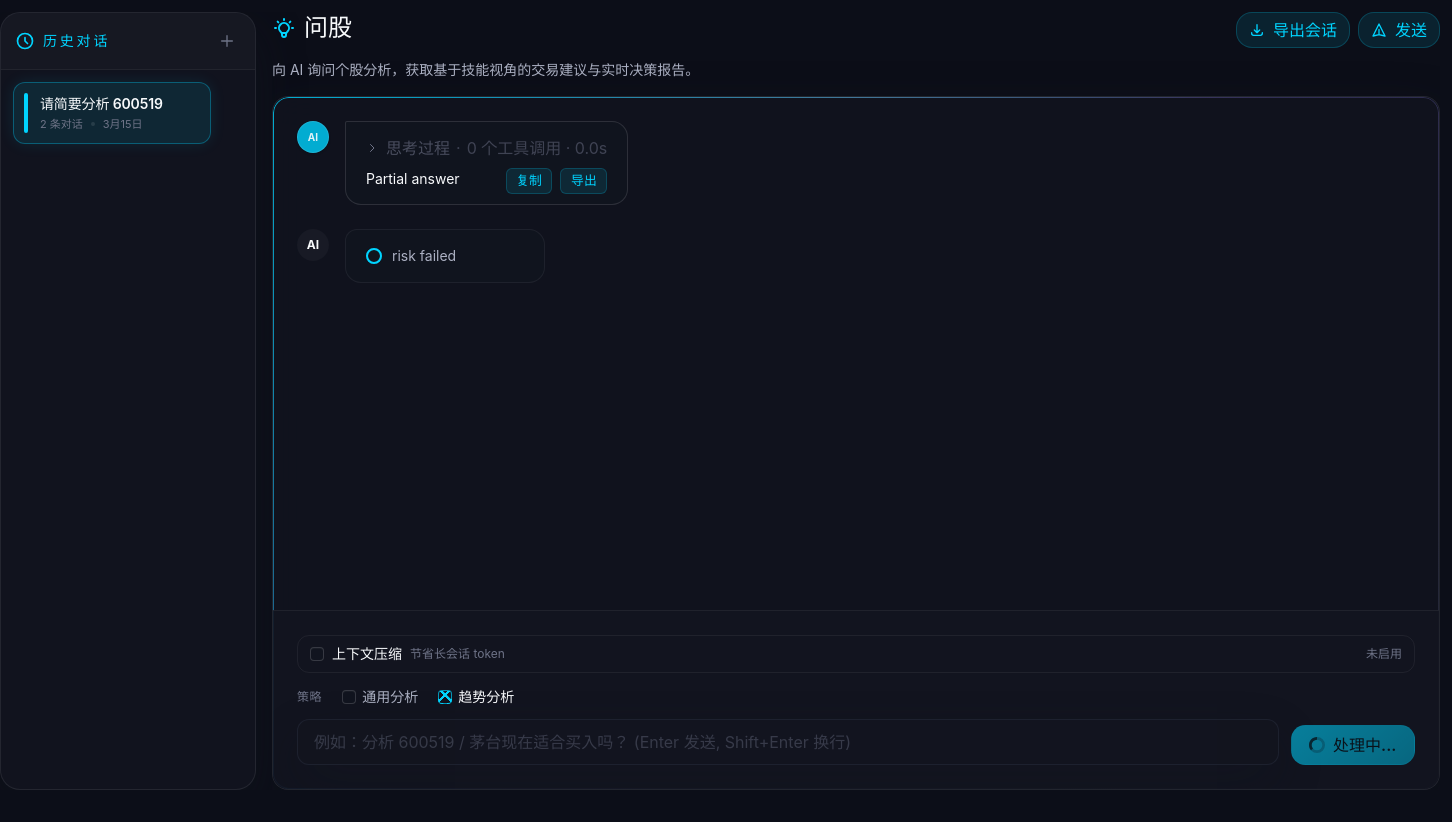
ChatPage › renders failed stage_done progress as a non-success state
Expected: the text "risk failed" is shown once, [392,246,456,266]
Click the button "思考过程 · 0 个工具调用 · 0.0s".
click(487, 148)  # box [366,136,607,160]
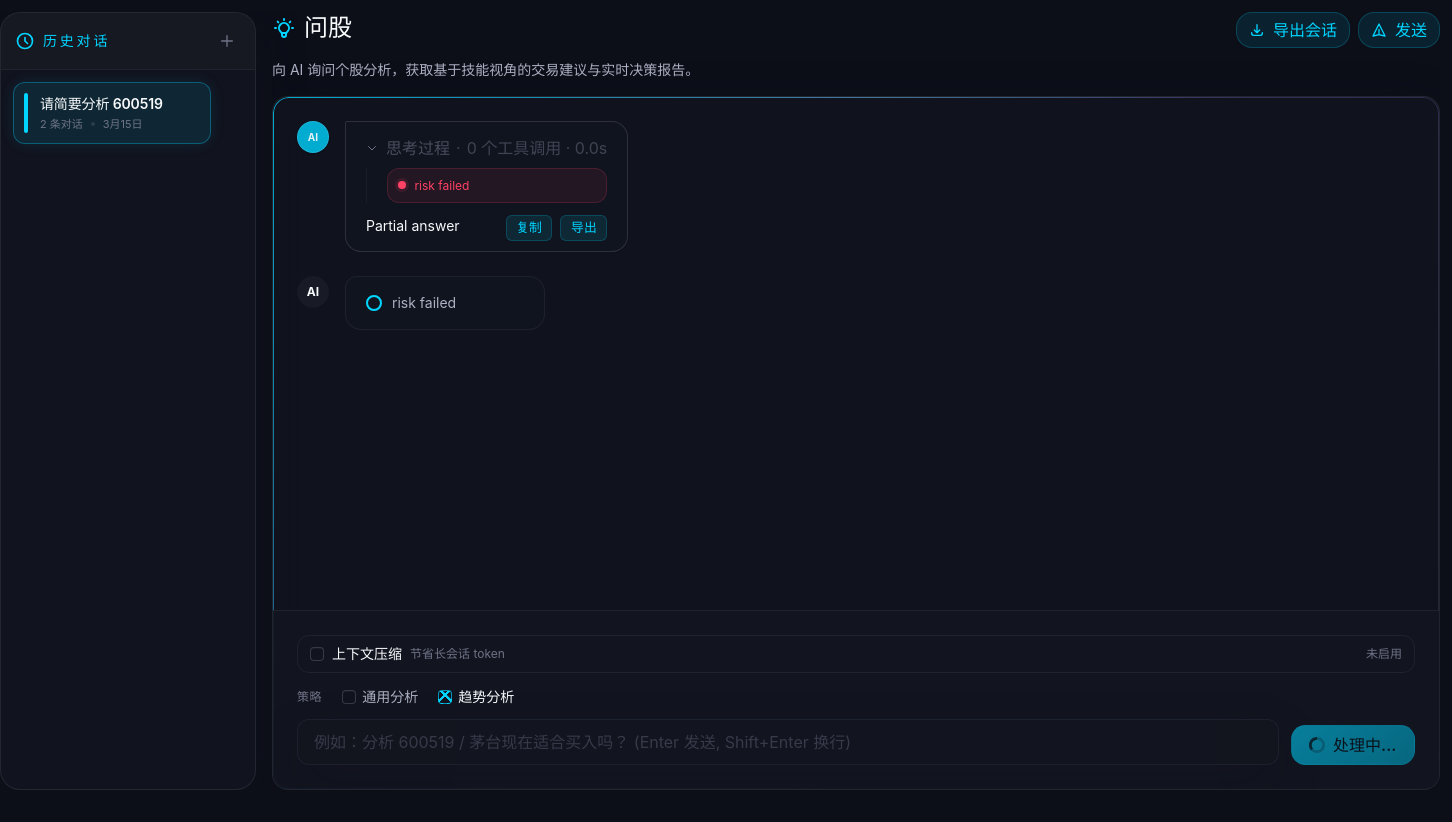
Now the 1st text "risk failed" is shown, box [414,176,469,195]
